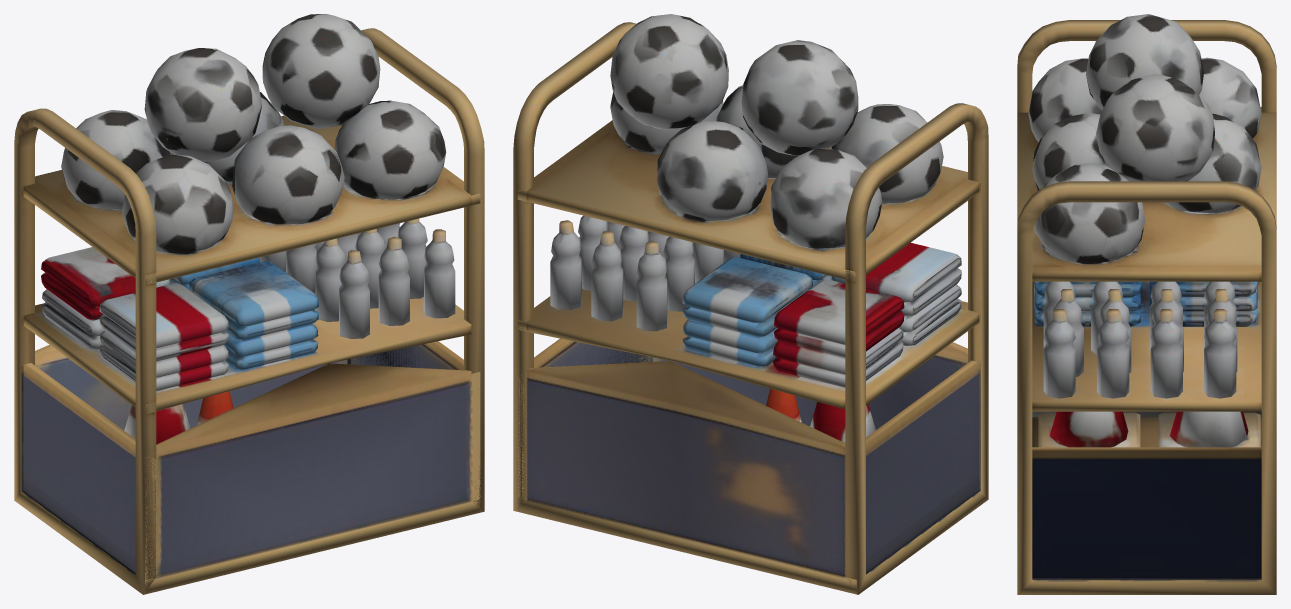
Rendered from equipment-station.glb.
The picture shows the model from 3 angles, left to right: view 1: azimuth 30°, elevation 25°; view 2: azimuth 150°, elevation 25°; view 3: azimuth 270°, elevation 25°; orthographic projection.
Visible parts, largest first — view 1: Sideline equipment station; view 2: Sideline equipment station; view 3: Sideline equipment station.
Part boxes in pixels (bbox=[...]): Sideline equipment station: bbox=[14, 14, 484, 594]; Sideline equipment station: bbox=[513, 14, 988, 594]; Sideline equipment station: bbox=[1017, 14, 1276, 594].
Bounding box in the file's own units: 0.7676 × 0.998 × 0.502.
1 material, 1 textured.
